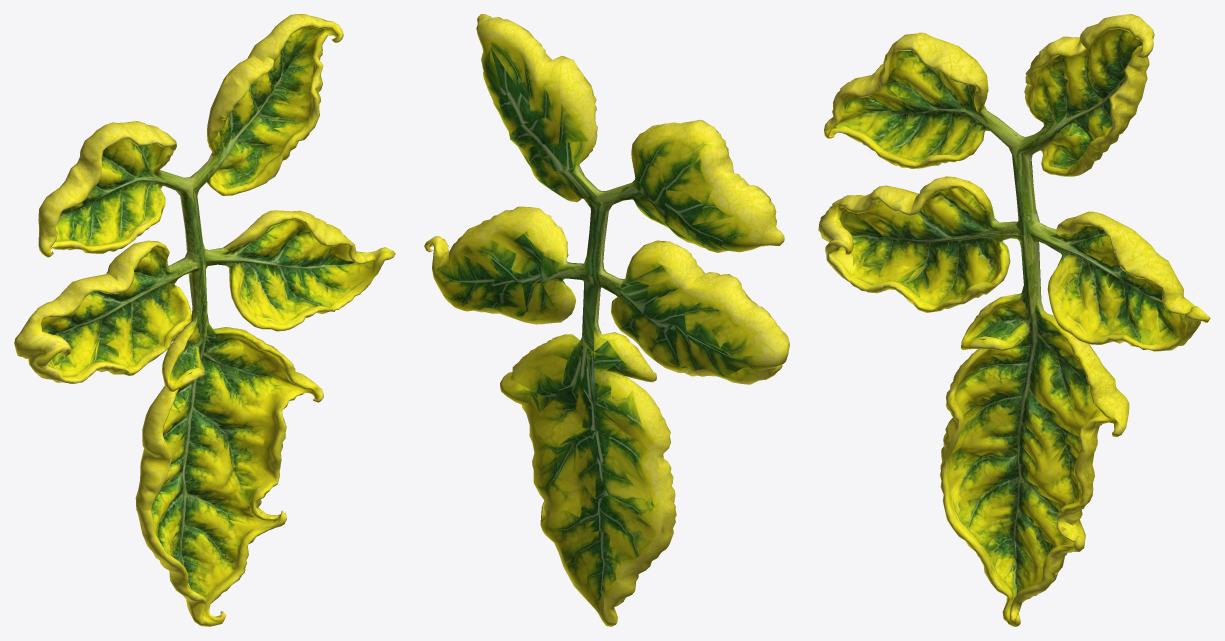
Rendered from tomato_yellow_leaf_curl_virus.glb.
3 renders of one model, left to right at view 1: azimuth 30°, elevation 25°; view 2: azimuth 150°, elevation 25°; view 3: azimuth 330°, elevation 25°, orthographic. The views are drawn at different scales.
Parts seen in each view (by area): view 1: tomato_yellow_leaf_curl_virus; view 2: tomato_yellow_leaf_curl_virus; view 3: tomato_yellow_leaf_curl_virus.
Boxes of the visible parts, x1,y1,x2,y2 form: tomato_yellow_leaf_curl_virus: [14, 14, 395, 626]; tomato_yellow_leaf_curl_virus: [424, 14, 789, 626]; tomato_yellow_leaf_curl_virus: [818, 14, 1210, 626].
Bounding box in the file's own units: 0.6662 × 1 × 0.09.
1 material, 1 textured.
